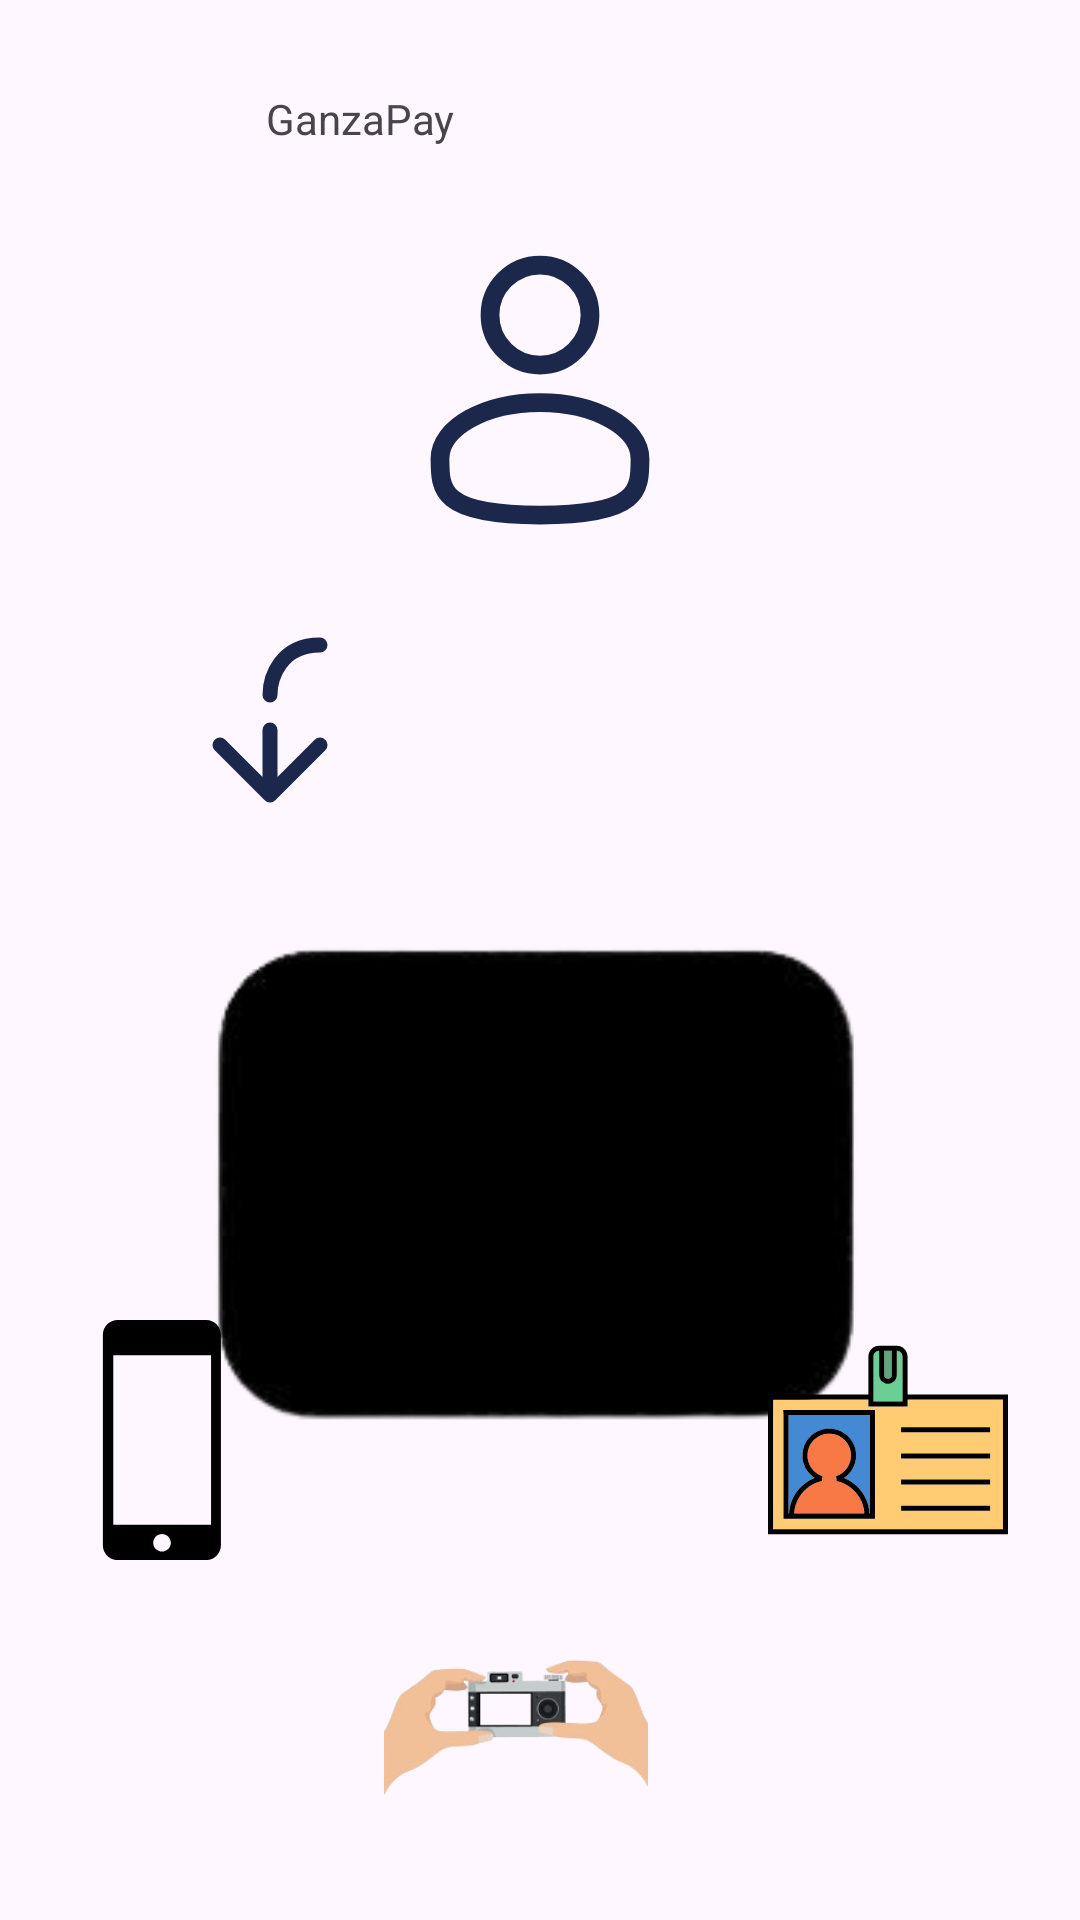

Icons on this 1080 × 1920 Android screen, each with the point to tap as (x=x, y=y):
camera: (x=516, y=1727)
user: (x=540, y=390)
